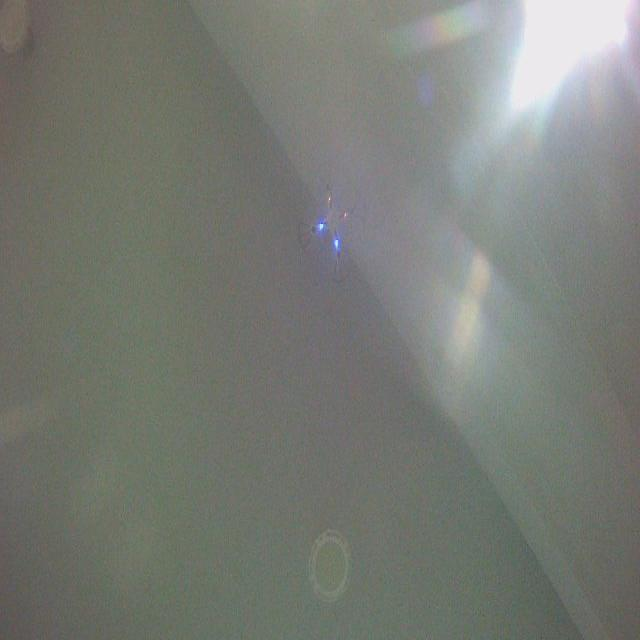drone: (296, 162, 365, 288)
